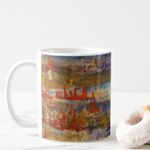cups: (4, 45, 117, 146)
